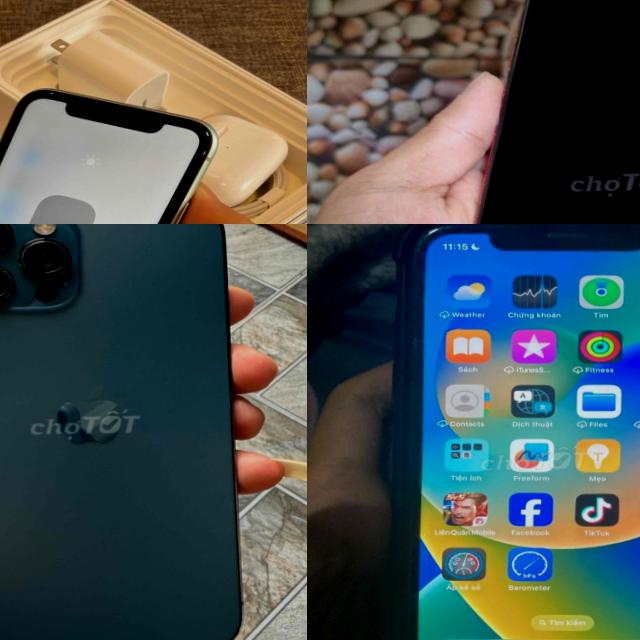gen_11: (392, 224, 640, 640), (0, 88, 218, 224)
gen_12_13: (0, 224, 250, 640)
gen_x_xs: (475, 0, 640, 224), (477, 0, 640, 224)
